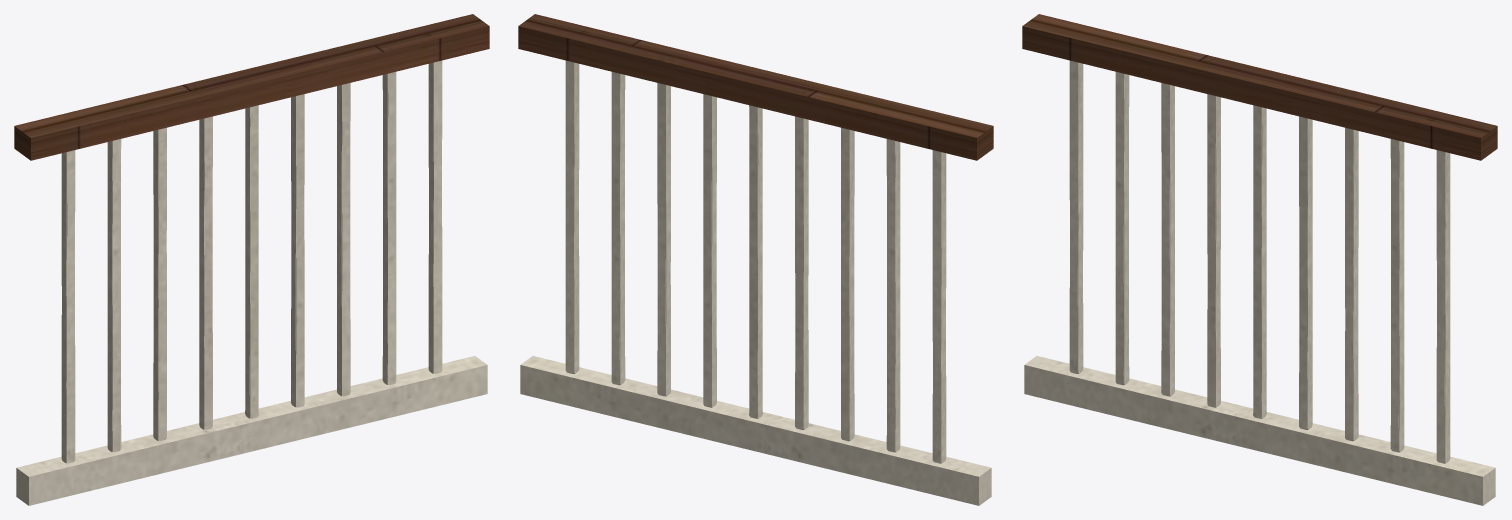
Rendered from rail_127_00.glb.
The picture shows the model from 3 angles, left to right: view 1: azimuth 30°, elevation 25°; view 2: azimuth 150°, elevation 25°; view 3: azimuth 330°, elevation 25°; orthographic projection.
Visible parts, largest first — view 1: rail_127_00_trim, rail_127_00_wood; view 2: rail_127_00_trim, rail_127_00_wood; view 3: rail_127_00_trim, rail_127_00_wood.
Part boxes in pixels (x1,y1,x2,y2): rail_127_00_trim: [16, 60, 487, 505]; rail_127_00_wood: [14, 14, 489, 160]; rail_127_00_trim: [520, 60, 991, 505]; rail_127_00_wood: [518, 14, 993, 160]; rail_127_00_trim: [1024, 60, 1495, 505]; rail_127_00_wood: [1022, 14, 1497, 160].
Bounding box in the file's own units: 1.27 × 0.977 × 0.08.
2 materials, 2 textured.
